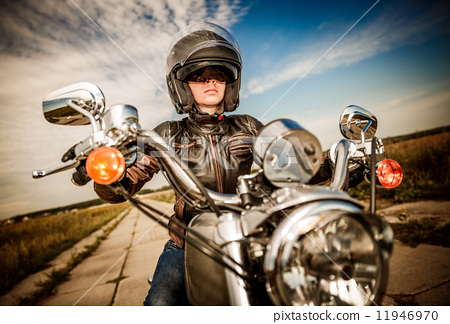helmet: (168, 25, 250, 123)
